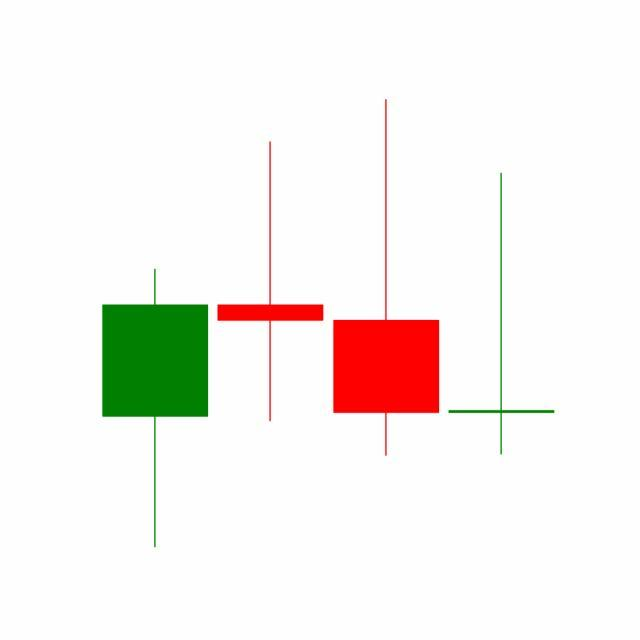Spinning Top: (444, 170, 560, 459)
